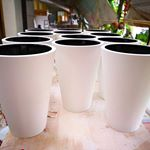other: (1, 42, 58, 140), (99, 41, 150, 134)
